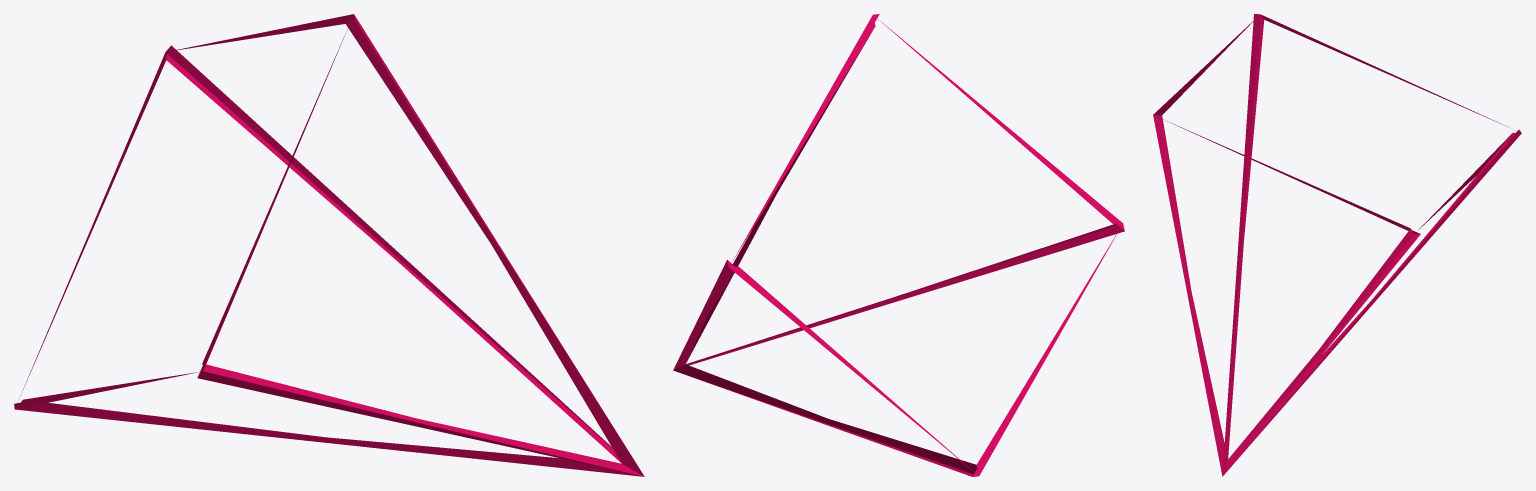
Rendered from frame30-pre-stream3r-scene.glb.
3 views of the same model, side by side, from view 1: azimuth 30°, elevation 25°; view 2: azimuth 150°, elevation 25°; view 3: azimuth 270°, elevation 25° (orthographic). The views are drawn at different scales.
Visible parts, largest first — view 1: world; view 2: world; view 3: world.
Part boxes in pixels (x1=…): world: x1=14, y1=14, x2=644, y2=476; world: x1=673, y1=14, x2=1124, y2=476; world: x1=1153, y1=14, x2=1521, y2=476.
Bounding box in the file's own units: 0.00134 × 0.0013 × 0.00118.
